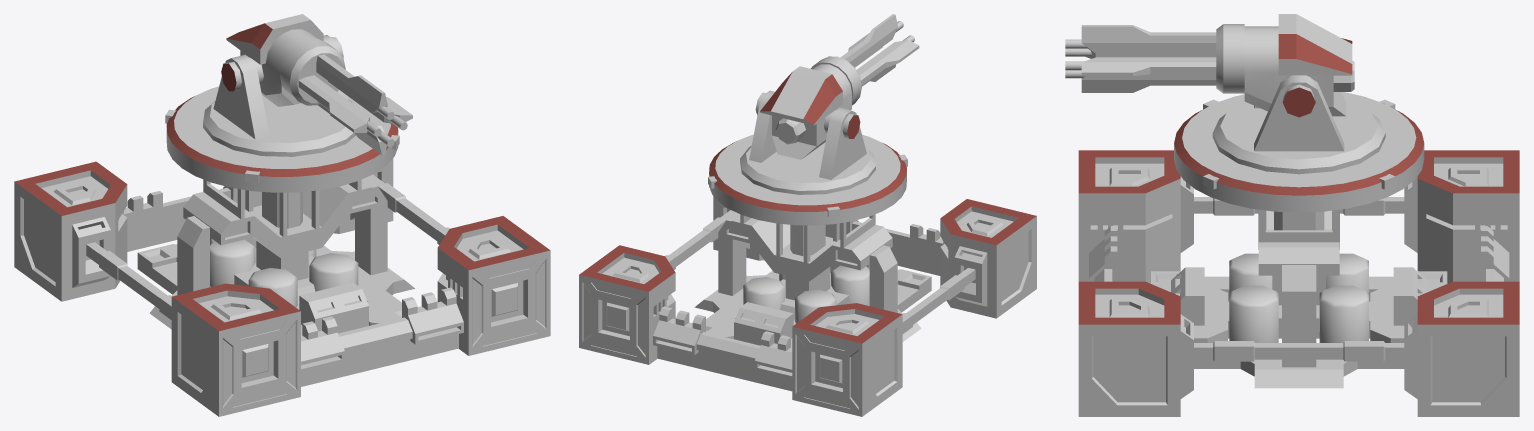
File: DefenseTurret.fbx
3 renders of one model, left to right at view 1: azimuth 30°, elevation 25°; view 2: azimuth 150°, elevation 25°; view 3: azimuth 270°, elevation 25°, orthographic. The views are drawn at different scales.
Parts seen in each view (by area): view 1: DefenseTowerBarrier, DefenseTower, DefenseTowerPlatform, TurretYawNode, TurretPitchNode, TurretBarrel; view 2: DefenseTowerBarrier, DefenseTower, DefenseTowerPlatform, TurretYawNode, TurretPitchNode, TurretBarrel; view 3: DefenseTowerBarrier, DefenseTower, DefenseTowerPlatform, TurretYawNode, TurretPitchNode, TurretBarrel.
Part boxes in pixels (x1,y1,x2,y2): DefenseTowerBarrier: (14,158,550,416); DefenseTower: (137,177,414,335); DefenseTowerPlatform: (165,86,399,192); TurretYawNode: (203,35,355,156); TurretPitchNode: (226,14,345,106); TurretBarrel: (298,54,412,155); DefenseTowerBarrier: (579,196,1036,416); DefenseTower: (694,213,931,347); DefenseTowerPlatform: (708,134,907,225); TurretYawNode: (740,90,875,194); TurretPitchNode: (760,56,861,159); TurretBarrel: (840,14,919,86); DefenseTowerBarrier: (1078,150,1519,416); DefenseTower: (1151,209,1447,388); DefenseTowerPlatform: (1174,92,1424,212); TurretYawNode: (1212,75,1385,174); TurretPitchNode: (1216,14,1354,116); TurretBarrel: (1065,25,1216,92).
Bounding box in the file's own units: 6.78 × 5.55 × 7.47.
